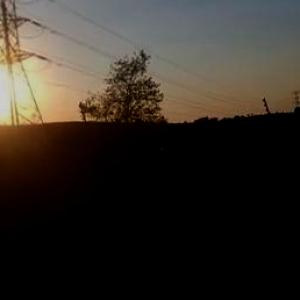follow: (149, 132, 213, 299)
